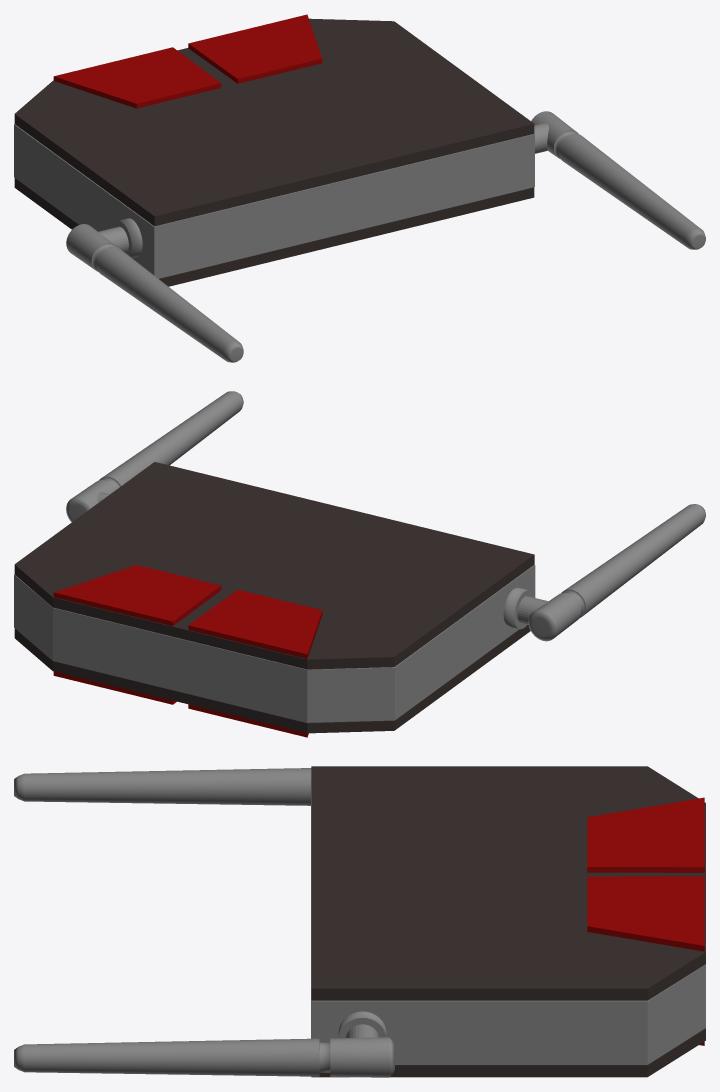
File: router_tier9.fbx
3 views of the same model, one above another, from view 1: azimuth 30°, elevation 25°; view 2: azimuth 150°, elevation 25°; view 3: azimuth 270°, elevation 25° (orthographic). The views are drawn at different scales.
Parts seen in each view (by area): view 1: Cube.003, Cube.002, Cube.004, Cylinder.001, Cylinder.003, Cube.001, Cylinder; view 2: Cube.003, Cube.002, Cube.004, Cylinder.001, Cube.001, Cylinder.003, Cube.005, Cylinder; view 3: Cube.003, Cube.002, Cube.004, Cylinder.003, Cylinder.001, Cube.001, Cylinder.002.
Part boxes in pixels (left/top/right/bottom): Cube.003: left=14, top=18, right=534, bottom=226; Cube.002: left=14, top=124, right=534, bottom=278; Cube.004: left=53, top=14, right=322, bottom=108; Cylinder.001: left=66, top=224, right=243, bottom=362; Cylinder.003: left=531, top=111, right=705, bottom=249; Cube.001: left=14, top=178, right=534, bottom=286; Cylinder: left=98, top=218, right=142, bottom=258; Cube.003: left=14, top=462, right=534, bottom=669; Cube.002: left=14, top=564, right=535, bottom=722; Cube.004: left=53, top=565, right=322, bottom=658; Cylinder.001: left=528, top=504, right=705, bottom=641; Cube.001: left=14, top=625, right=530, bottom=733; Cylinder.003: left=66, top=391, right=243, bottom=522; Cube.005: left=53, top=671, right=308, bottom=737; Cylinder: left=503, top=587, right=548, bottom=629; Cube.003: left=311, top=766, right=705, bottom=1000; Cube.002: left=311, top=778, right=705, bottom=1064; Cube.004: left=587, top=797, right=704, bottom=951; Cylinder.003: left=14, top=1037, right=394, bottom=1077; Cylinder.001: left=14, top=768, right=311, bottom=805; Cube.001: left=311, top=1028, right=705, bottom=1077; Cylinder.002: left=338, top=1011, right=386, bottom=1038.
Bounding box in the file's own units: 0.687 × 0.1113 × 0.6978.
